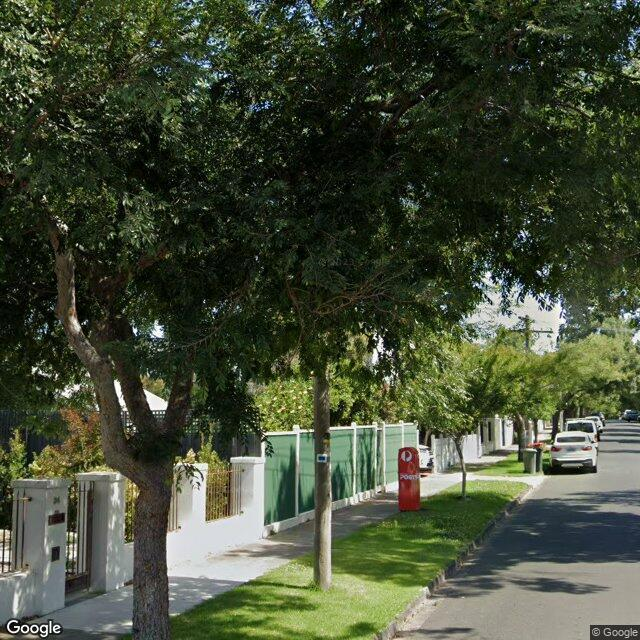timber-pole: (314, 371, 330, 587)
